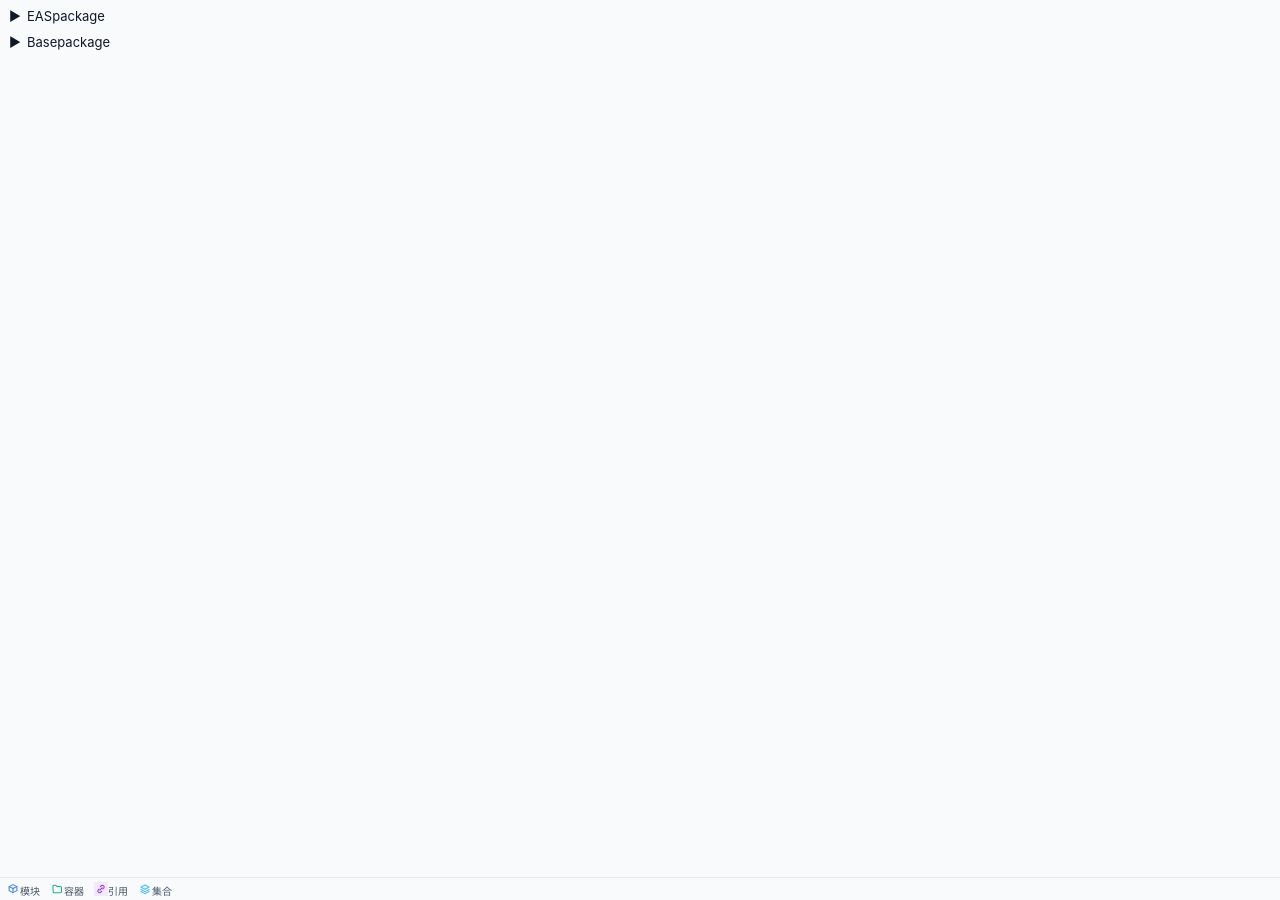
Tree module-kind right-click (Bug 1 — multi-doc) › right-clicking JWQ3399 row while active=Adc opens menu with JWQ3399 sourceBswmdPath
The width and height of the screenshot is (1280, 900).
Later steps or results of the test are not shown.
// Expand JWQ3399's `/Base` package so the JWQ3399 module mounts.
Click the button with test id "chevron-/Base".
click(15, 42)  # box [7,34,23,50]
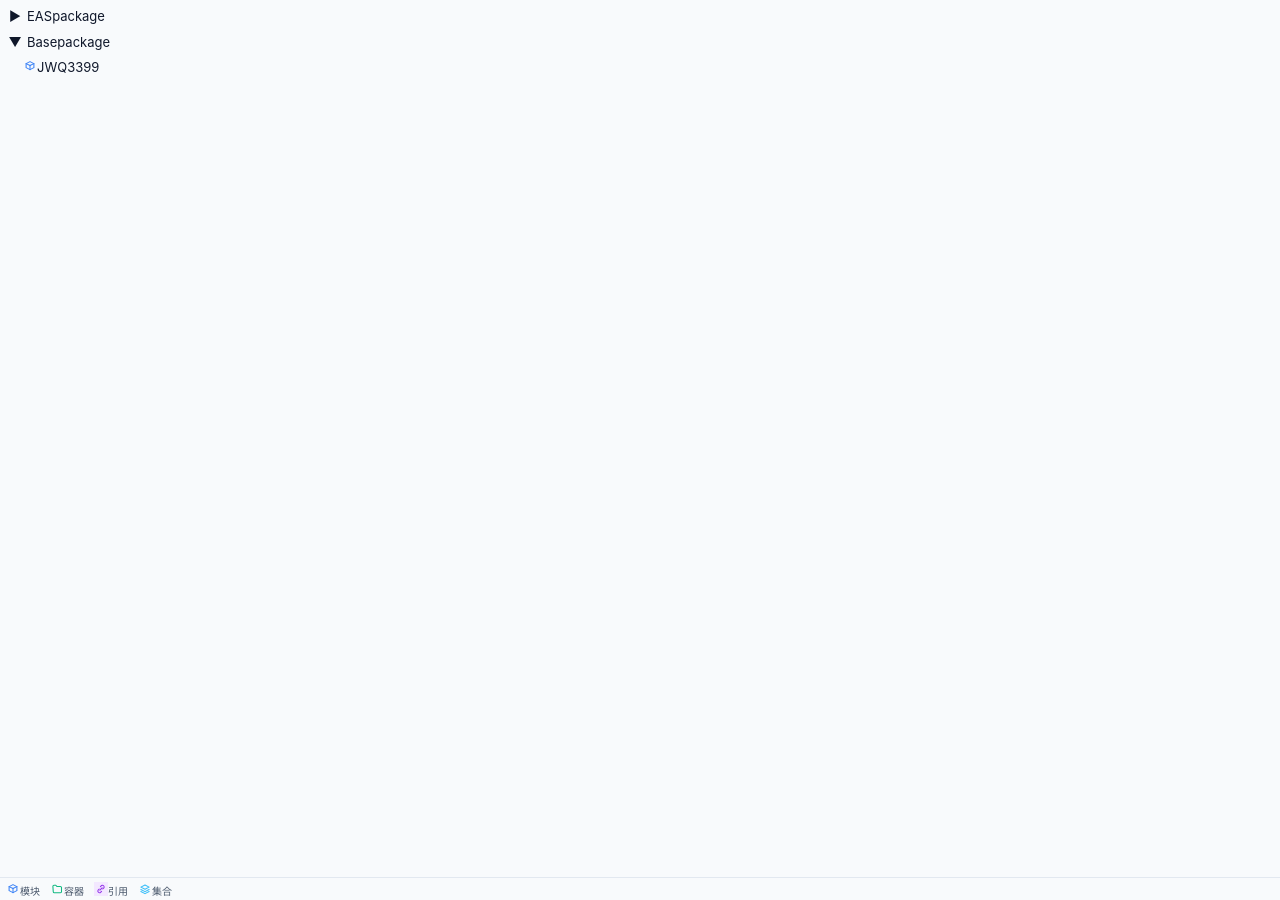
Expected: the list item with test id "treeitem-/Base/JWQ3399" is shown, [23,58,99,78]
